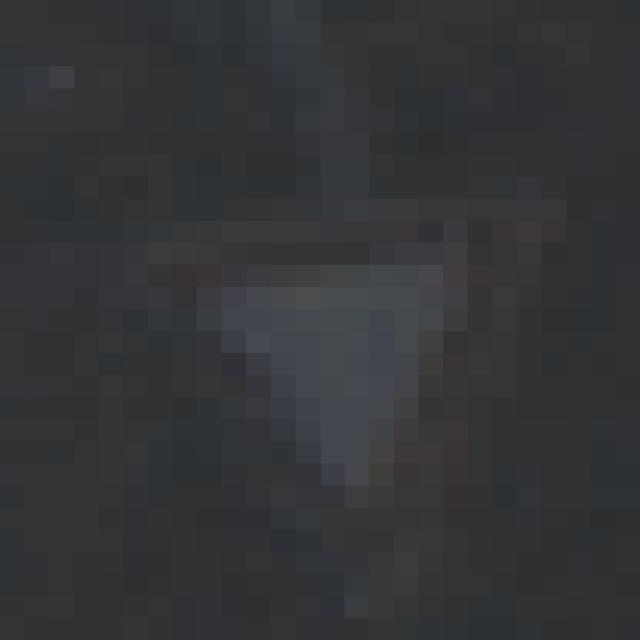Give Way: (124, 134, 493, 531)
